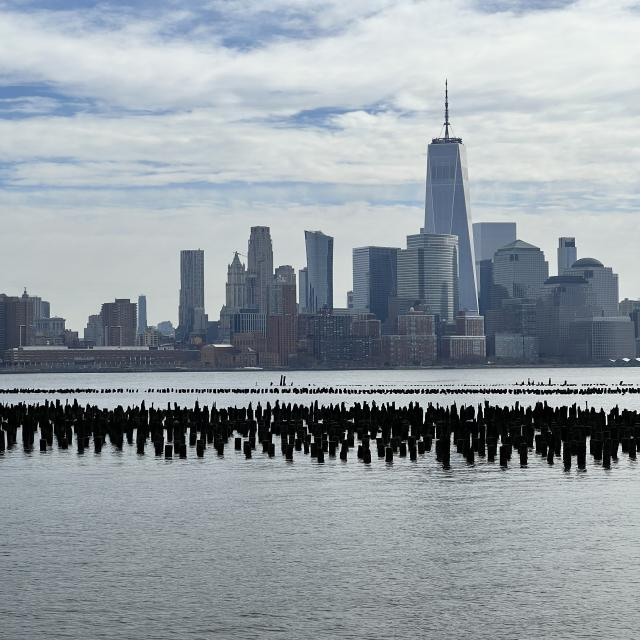WTC: (424, 78, 472, 234)
